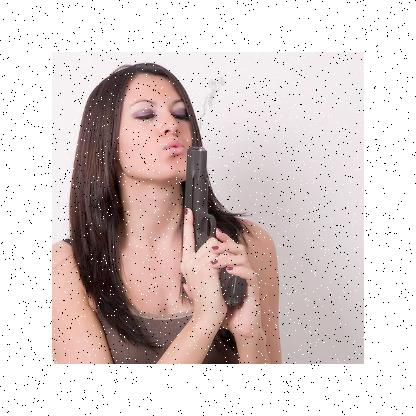gun: (182, 146, 244, 310)
